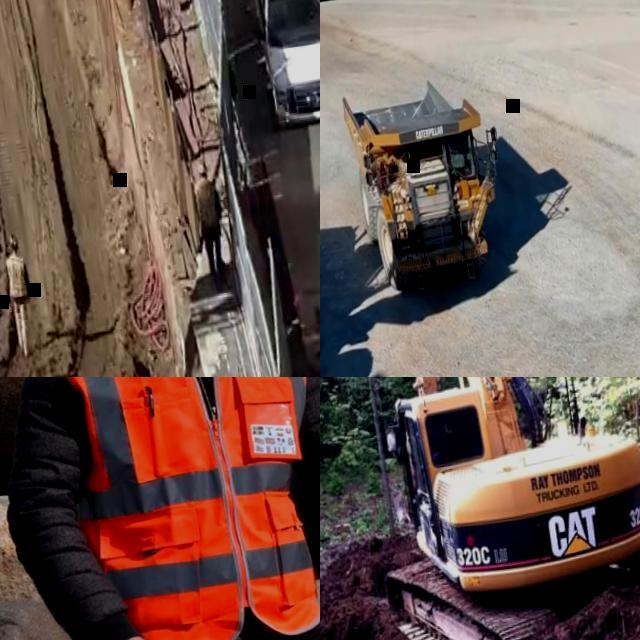helmet: (7, 232, 19, 248), (197, 162, 210, 174)
machinery: (345, 377, 640, 640), (332, 61, 524, 312)
person: (0, 377, 320, 640), (0, 230, 40, 358), (190, 160, 232, 275)
vehicle: (246, 0, 320, 130)
vest: (18, 377, 320, 640), (6, 254, 29, 296)
